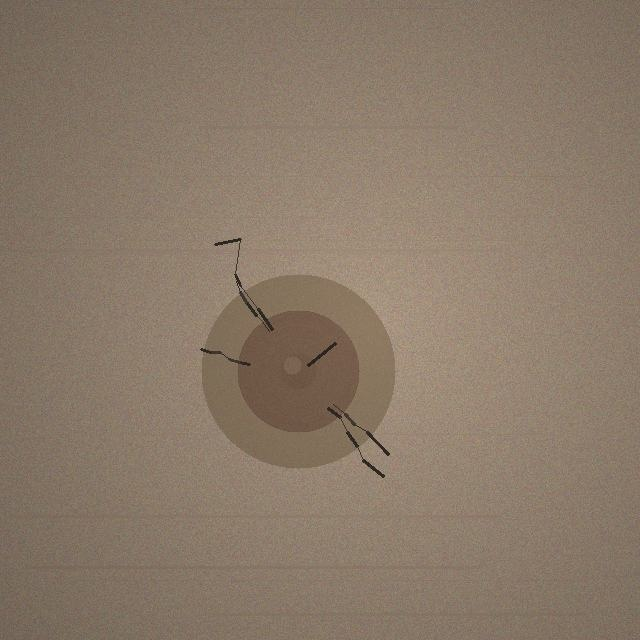crack: (201, 274, 395, 468)
